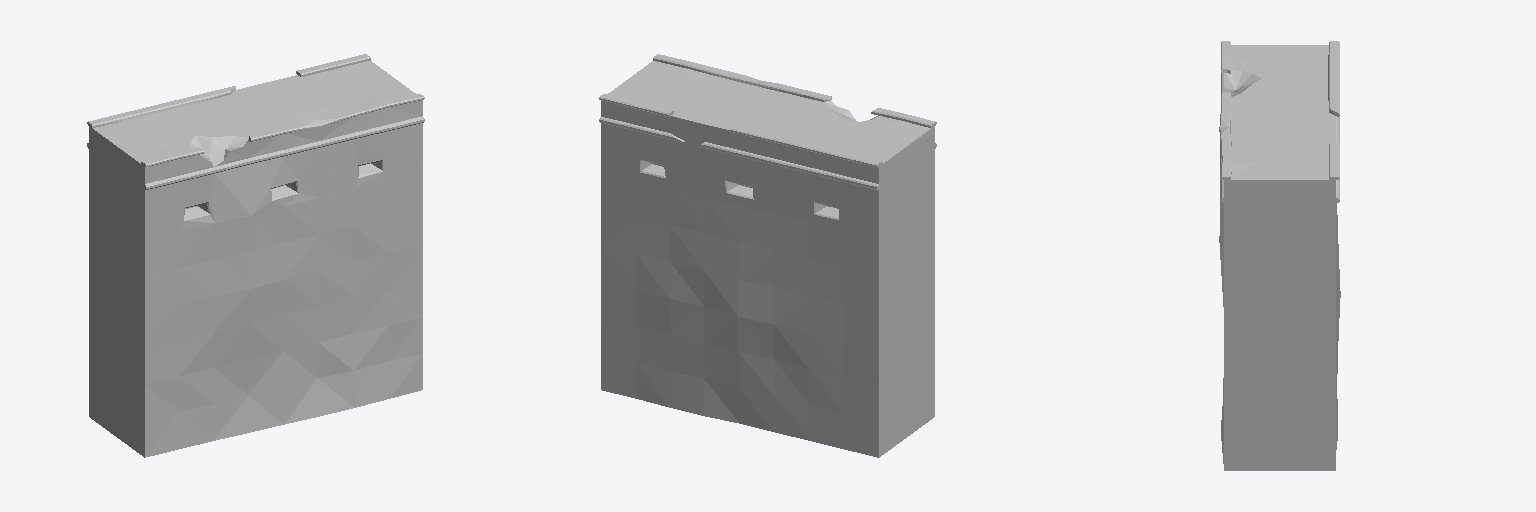
The model's file is msh_fort_wall_02.obj.
The picture shows the model from 3 angles: view 1: azimuth 30°, elevation 25°; view 2: azimuth 150°, elevation 25°; view 3: azimuth 270°, elevation 25°; orthographic projection.
Visible parts, largest first — view 1: msh_fort_wall_02_Cube.030; view 2: msh_fort_wall_02_Cube.030; view 3: msh_fort_wall_02_Cube.030.
Boxes of the visible parts, x1,y1,x2,y2 form: msh_fort_wall_02_Cube.030: [87, 54, 424, 457]; msh_fort_wall_02_Cube.030: [599, 54, 936, 457]; msh_fort_wall_02_Cube.030: [1219, 41, 1340, 470].
Bounding box in the file's own units: 6 × 6.08 × 2.27.